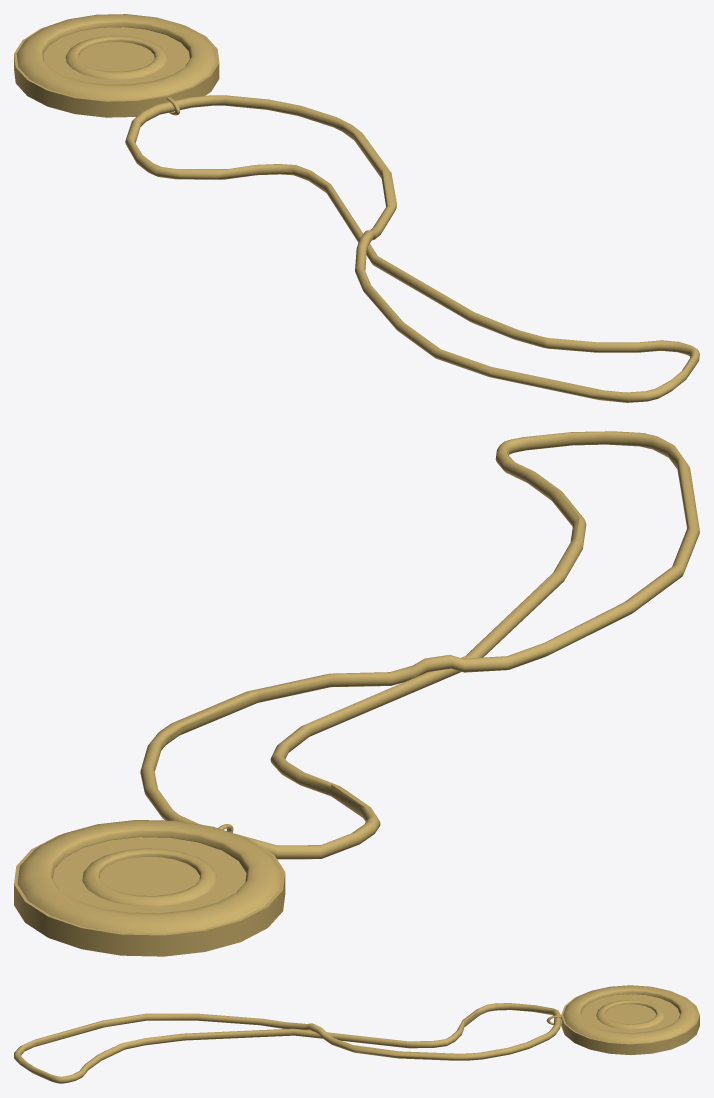
Rendered from clue_necklace.obj.
3 renders of one model, top to bottom at view 1: azimuth 30°, elevation 25°; view 2: azimuth 150°, elevation 25°; view 3: azimuth 270°, elevation 25°, orthographic. The views are drawn at different scales.
Parts seen in each view (by area): view 1: pCylinder4; view 2: pCylinder4; view 3: pCylinder4.
Part boxes in pixels (<box>): pCylinder4: <box>14,14,699,402</box>; pCylinder4: <box>14,431,699,956</box>; pCylinder4: <box>14,985,699,1083</box>.
Bounding box in the file's own units: 1.14 × 0.1472 × 4.09.
